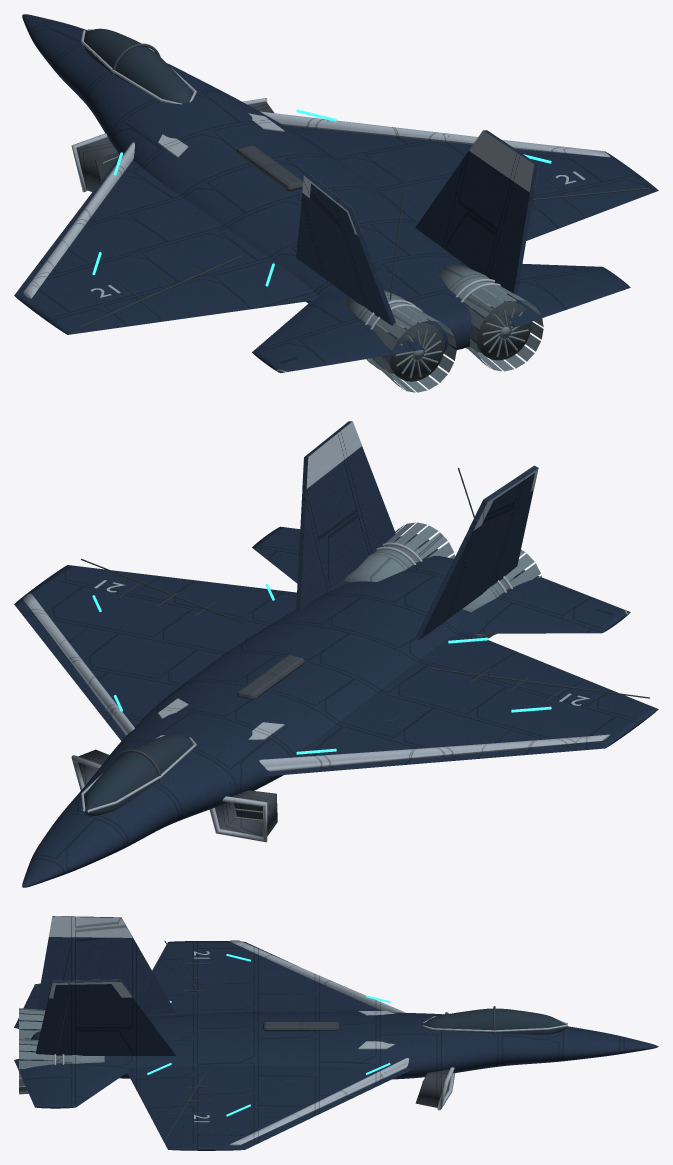
File: haneul-high.glb
3 renders of one model, top to bottom at view 1: azimuth 30°, elevation 25°; view 2: azimuth 150°, elevation 25°; view 3: azimuth 270°, elevation 25°, orthographic. The views are drawn at different scales.
Visible parts, largest first — view 1: midnight-surfaces, silver-surfaces, titanium-surfaces, graphite-surfaces, Cockpit glass-surfaces, carbon-surfaces; view 2: midnight-surfaces, silver-surfaces, titanium-surfaces, Cockpit glass-surfaces, carbon-surfaces, graphite-surfaces; view 3: midnight-surfaces, silver-surfaces, Cockpit glass-surfaces, titanium-surfaces, carbon-surfaces, graphite-surfaces, Cyan sensor optics-surfaces.
Boxes of the visible parts, x1=… form: midnight-surfaces: x1=14, y1=14, x2=658, y2=373; silver-surfaces: x1=23, y1=29, x2=610, y2=370; titanium-surfaces: x1=103, y1=156, x2=543, y2=392; graphite-surfaces: x1=81, y1=152, x2=649, y2=381; Cockpit glass-surfaces: x1=84, y1=28, x2=192, y2=102; carbon-surfaces: x1=76, y1=43, x2=303, y2=191; midnight-surfaces: x1=14, y1=421, x2=658, y2=887; silver-surfaces: x1=23, y1=421, x2=610, y2=842; titanium-surfaces: x1=235, y1=522, x2=541, y2=821; Cockpit glass-surfaces: x1=84, y1=734, x2=192, y2=816; carbon-surfaces: x1=78, y1=655, x2=304, y2=836; graphite-surfaces: x1=81, y1=468, x2=649, y2=821; midnight-surfaces: x1=14, y1=916, x2=658, y2=1150; silver-surfaces: x1=49, y1=916, x2=567, y2=1145; Cockpit glass-surfaces: x1=424, y1=1008, x2=566, y2=1034; titanium-surfaces: x1=19, y1=1008, x2=423, y2=1094; carbon-surfaces: x1=263, y1=1006, x2=495, y2=1107; graphite-surfaces: x1=27, y1=941, x2=427, y2=1140; Cyan sensor optics-surfaces: x1=147, y1=954, x2=390, y2=1116.
Bounding box in the file's own units: 7.76 × 2.25 × 10.17.
7 materials, 5 textured.
